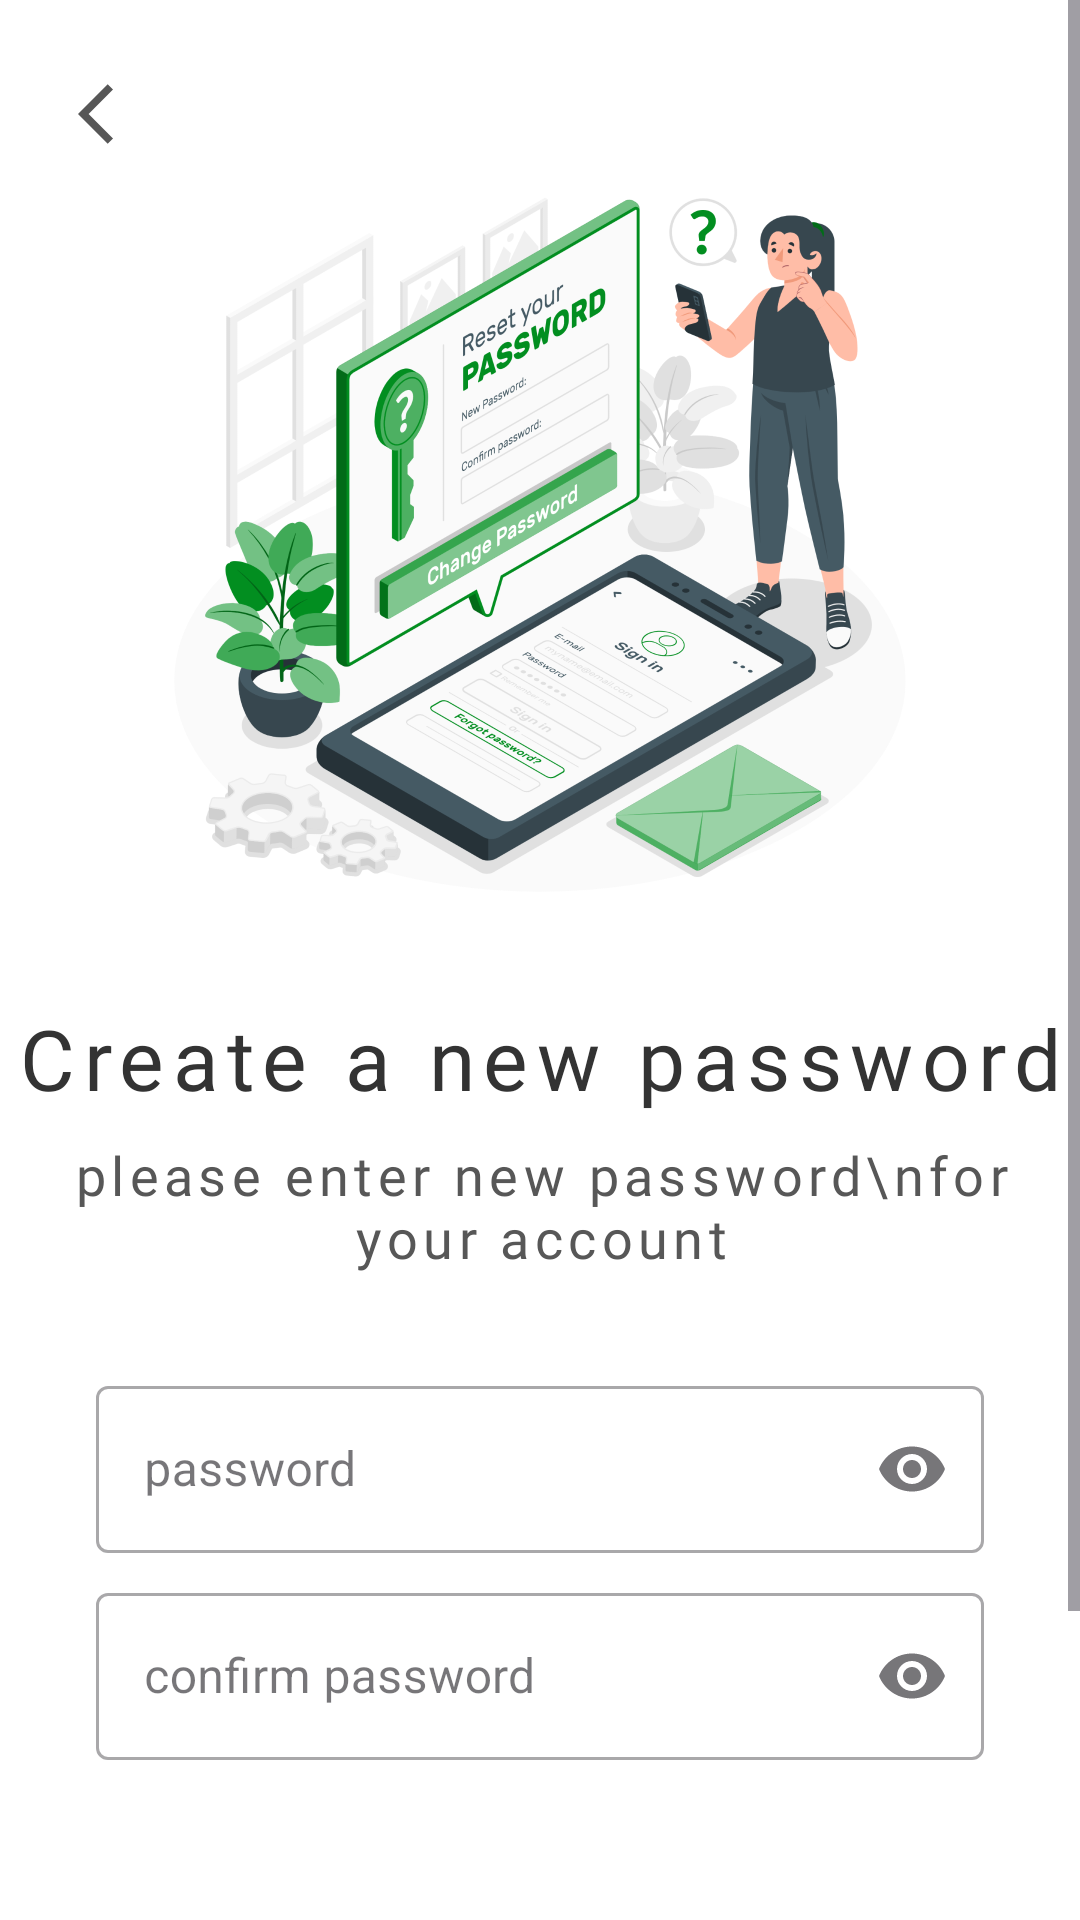

Icons on this 1080 × 1920 Android screen, each with the point to tap as (x,y):
arrow back: (95,114)
